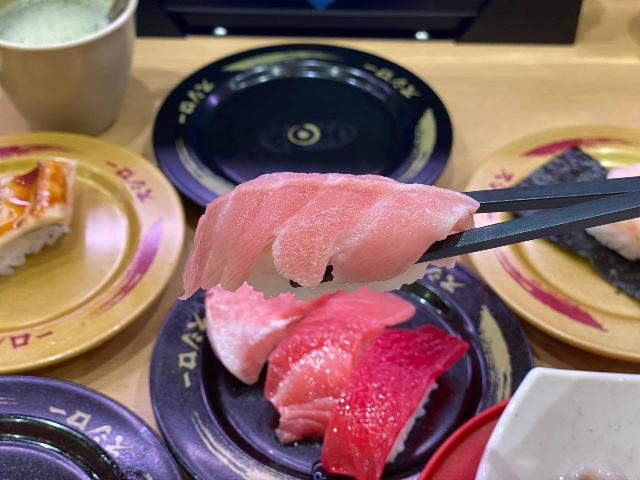janback: (167, 52, 458, 173), (0, 372, 197, 480), (151, 308, 218, 479), (458, 275, 523, 395), (218, 393, 279, 480)
jangold: (478, 245, 640, 362), (0, 260, 171, 353), (76, 141, 184, 267), (562, 123, 640, 178), (474, 132, 555, 181), (0, 130, 87, 164)
